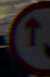Two way: (5, 5, 49, 58)
